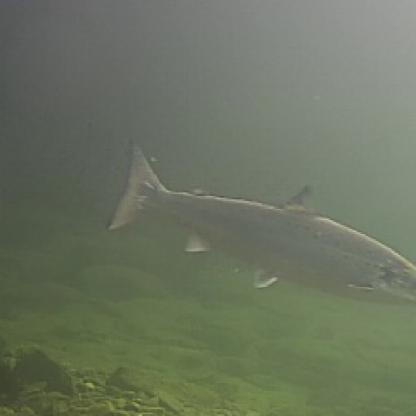salmon: (99, 132, 414, 305)
